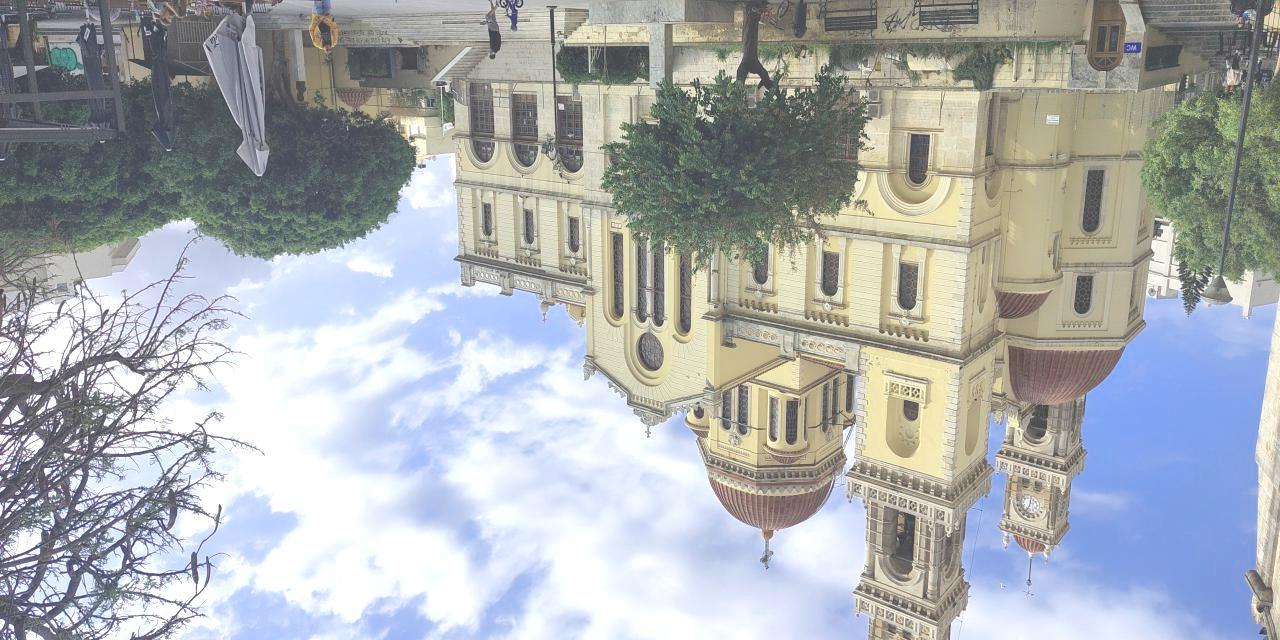Agios Minas: (450, 67, 1165, 640)
